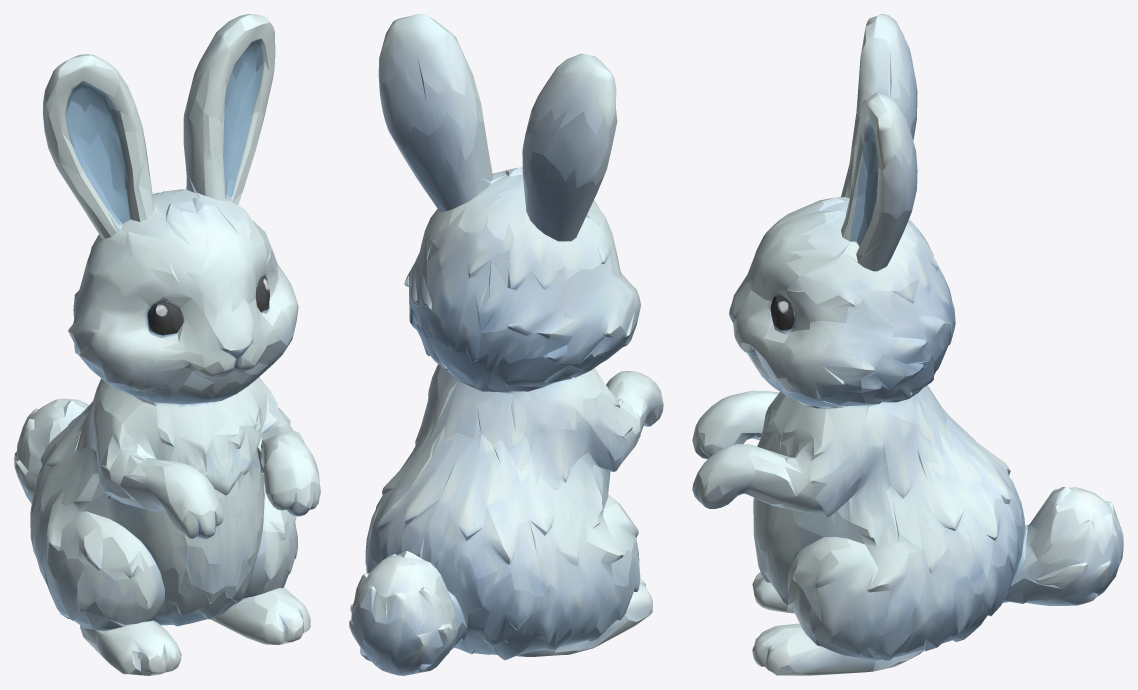
File: conejo.glb
3 renders of one model, left to right at view 1: azimuth 30°, elevation 25°; view 2: azimuth 150°, elevation 25°; view 3: azimuth 270°, elevation 25°, orthographic. The views are drawn at different scales.
Bounding box in the file's own units: 0.7833 × 1.9 × 1.28.
Materials: 1 (1 with a texture image).
